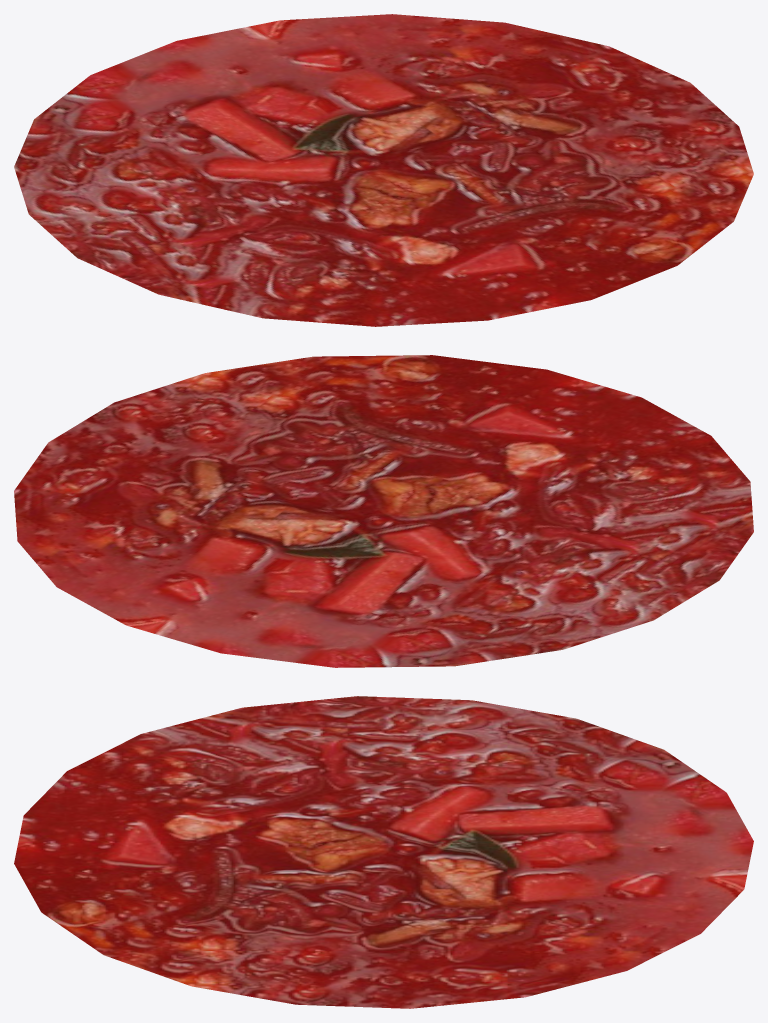
File: food.fbx
The picture shows the model from 3 angles, top to bottom: view 1: azimuth 30°, elevation 25°; view 2: azimuth 150°, elevation 25°; view 3: azimuth 270°, elevation 25°; orthographic projection.
Parts seen in each view (by area): view 1: food1; view 2: food1; view 3: food1.
Part boxes in pixels (x1,y1,x2,y2): food1: [14, 14, 753, 326]; food1: [14, 355, 753, 667]; food1: [14, 696, 753, 1008].
Bounding box in the file's own units: 29.24 × 0 × 29.24.
Materials: 1 (1 with a texture image).
